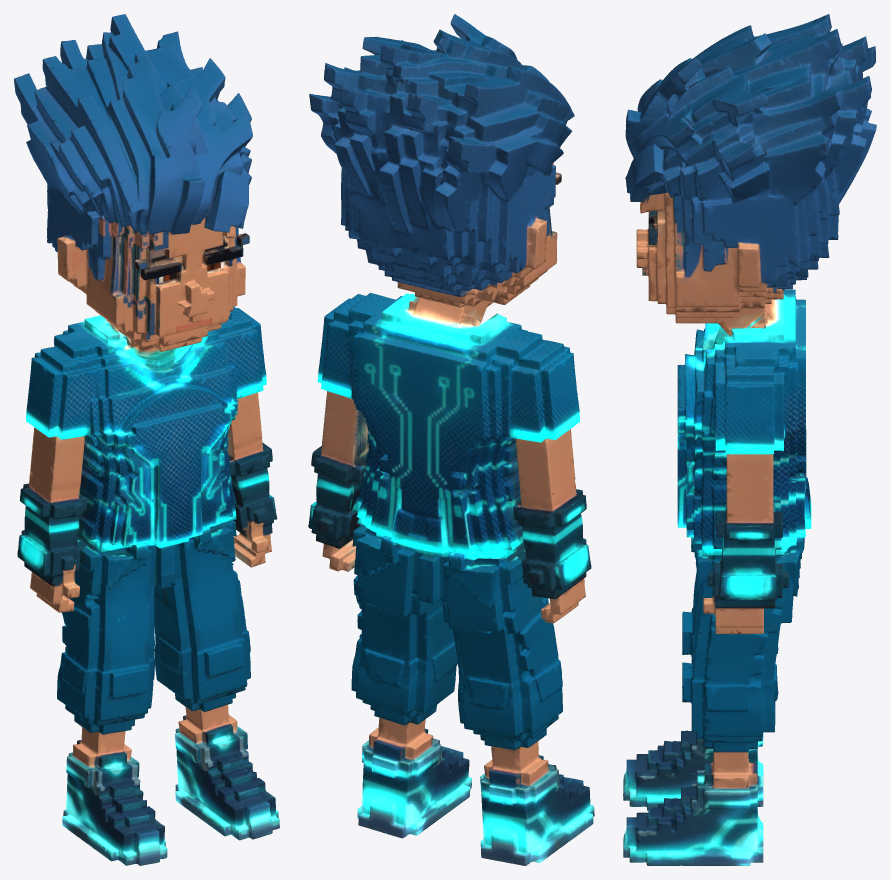
Rendered from Player2.glb.
The picture shows the model from 3 angles, left to right: view 1: azimuth 30°, elevation 25°; view 2: azimuth 150°, elevation 25°; view 3: azimuth 270°, elevation 25°; orthographic projection. The views are drawn at different scales.
Visible parts, largest first — view 1: world; view 2: world; view 3: world.
Part boxes in pixels (bbox=[...]): world: bbox=[14, 14, 279, 865]; world: bbox=[308, 14, 594, 865]; world: bbox=[623, 14, 876, 865].
Size of the model in its own units: 0.6109 by 1.9 by 0.5451.
Materials: 1 (1 with a texture image).
